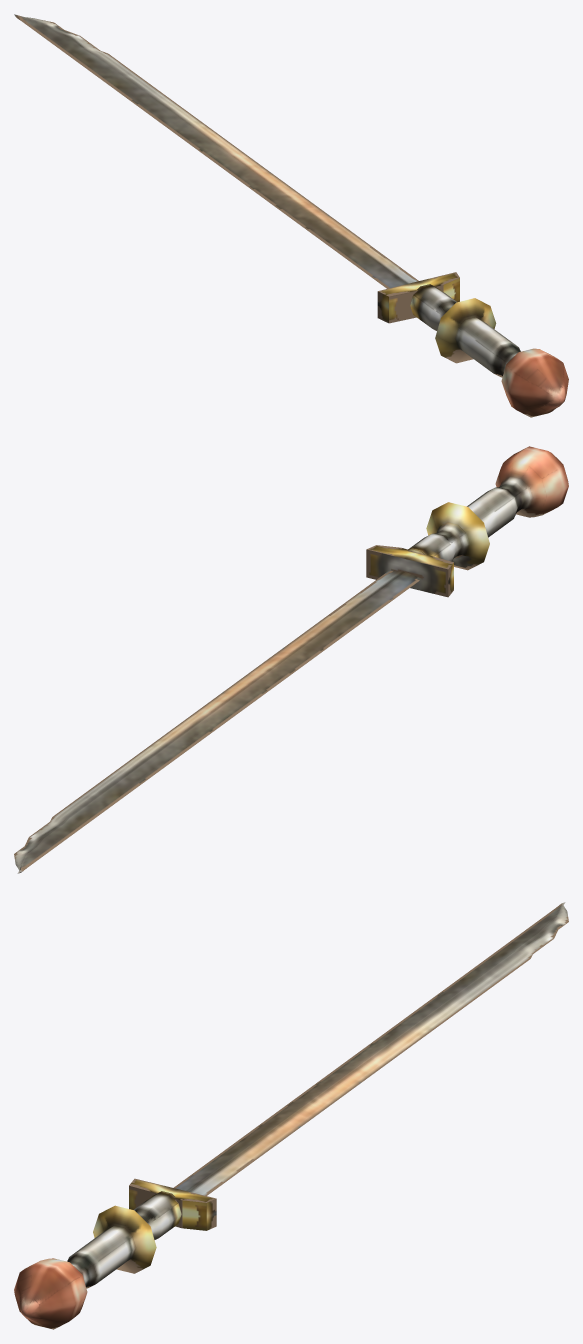
Rendered from item_mm9_10007.glb.
3 renders of one model, top to bottom at view 1: azimuth 30°, elevation 25°; view 2: azimuth 150°, elevation 25°; view 3: azimuth 330°, elevation 25°, orthographic. The views are drawn at different scales.
Visible parts, largest first — view 1: d10007; view 2: d10007; view 3: d10007.
Boxes of the visible parts, x1,y1,x2,y2 form: d10007: (14,14,568,417); d10007: (14,446,568,873); d10007: (14,902,568,1329).
Bounding box in the file's own units: 12.11 × 8.96 × 142.
1 material, 1 textured.
